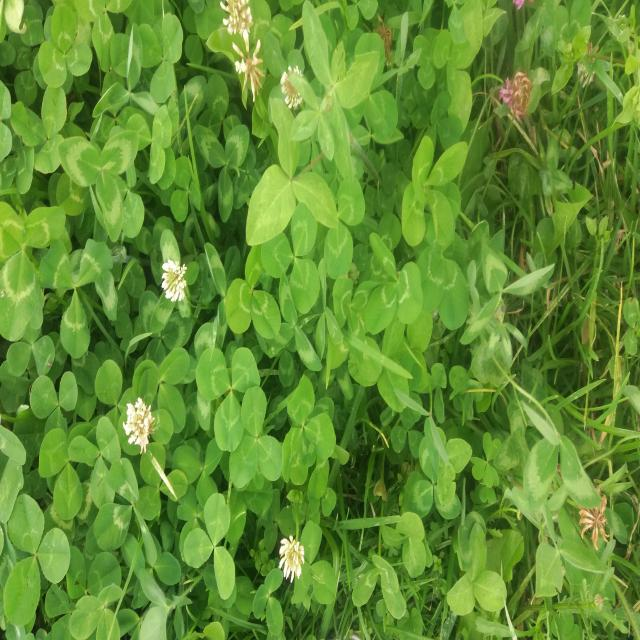Four Leaf Clover: (401, 135, 468, 247)
